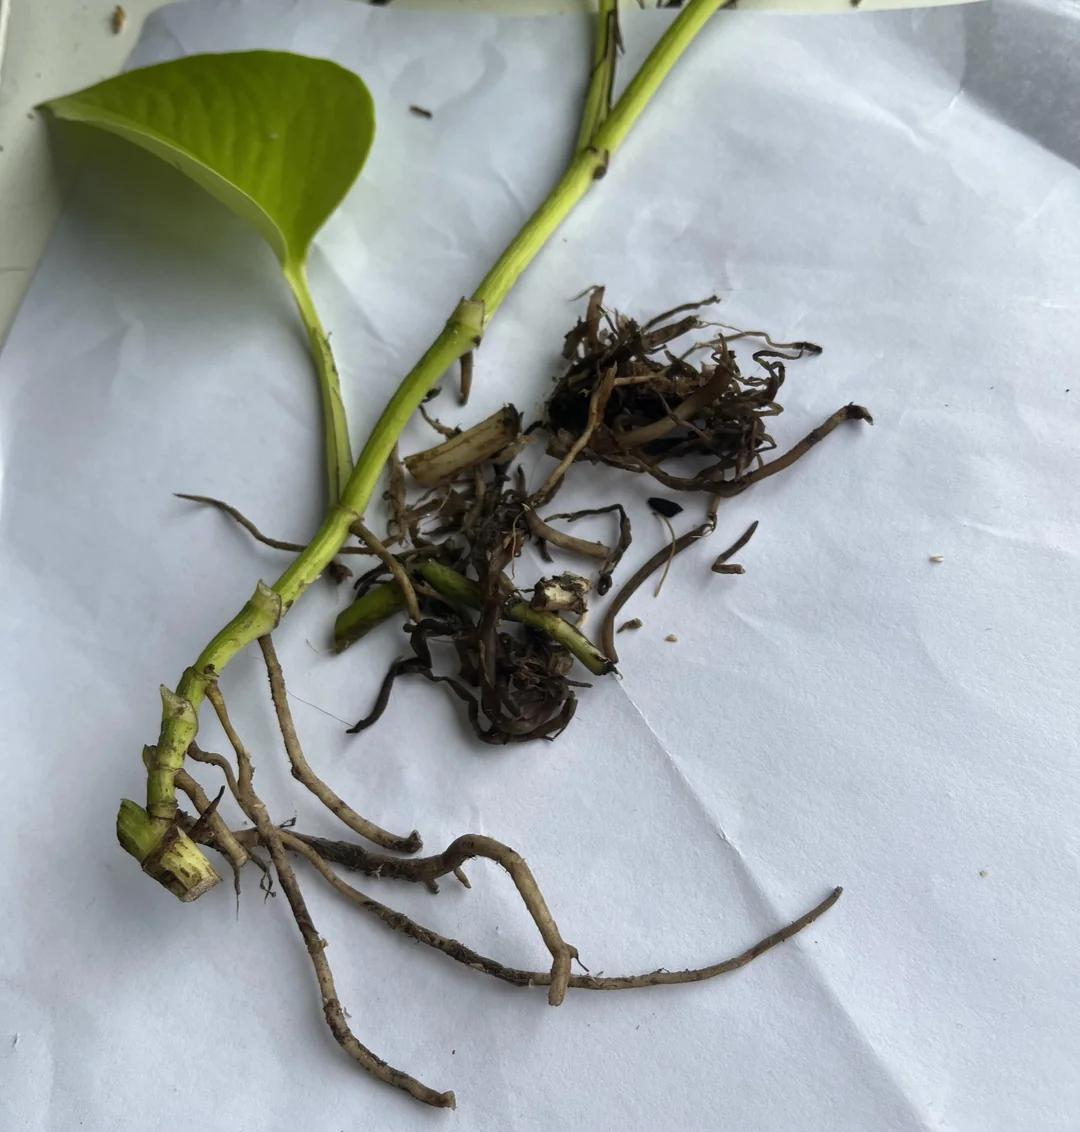root_rot: (42, 25, 952, 1062)
